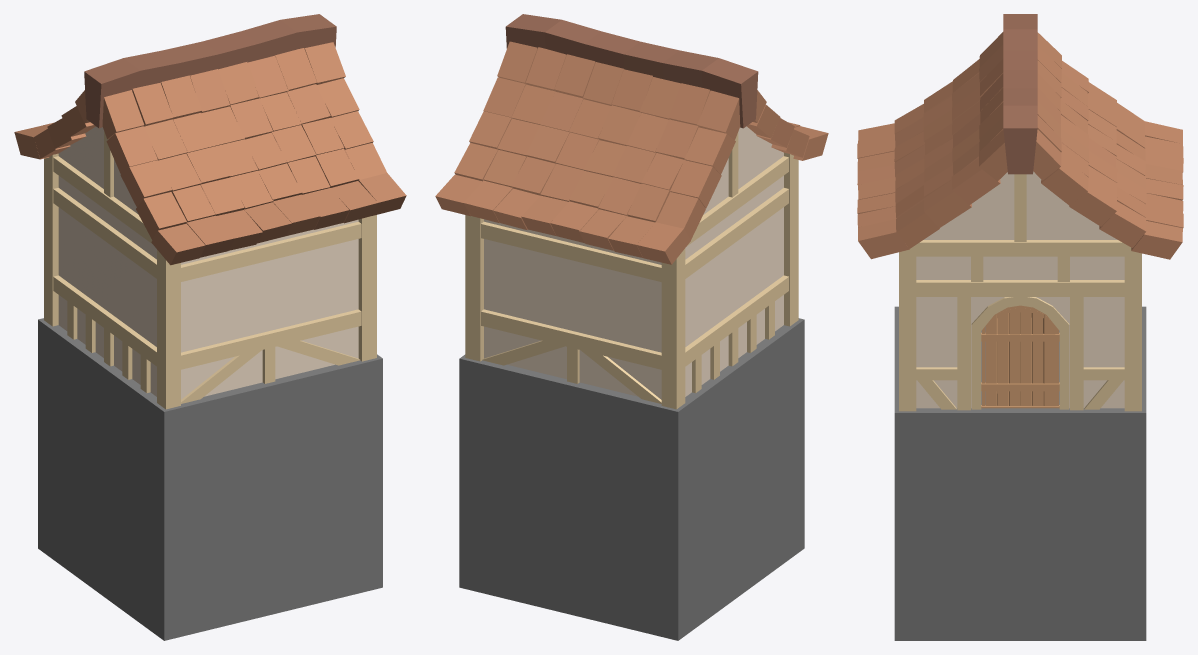
File: fang07_1.fbx
The picture shows the model from 3 angles, left to right: view 1: azimuth 30°, elevation 25°; view 2: azimuth 150°, elevation 25°; view 3: azimuth 270°, elevation 25°; orthographic projection.
Parts seen in each view (by area): view 1: diban, wuding, fang07, zhuzi, wuyan; view 2: diban, wuding, fang07, zhuzi, wuyan; view 3: diban, wuding, zhuzi, fang07, men.001, wuyan, mnkuang.
Part boxes in pixels (<box>): diban: <box>38,318,382,640</box>; wuding: <box>14,42,406,265</box>; fang07: <box>58,126,358,399</box>; zhuzi: <box>44,131,376,409</box>; wuyan: <box>84,14,336,128</box>; diban: <box>459,318,804,640</box>; wuding: <box>435,41,828,264</box>; fang07: <box>484,126,783,399</box>; zhuzi: <box>465,132,798,409</box>; wuyan: <box>505,14,758,128</box>; diban: <box>894,306,1146,640</box>; wuding: <box>857,32,1183,259</box>; zhuzi: <box>899,174,1141,411</box>; fang07: <box>916,171,1124,408</box>; men.001: <box>981,305,1059,408</box>; wuyan: <box>1003,14,1037,174</box>; mnkuang: <box>971,297,1069,409</box>.
Bounding box in the file's own units: 312 × 662 × 376.
